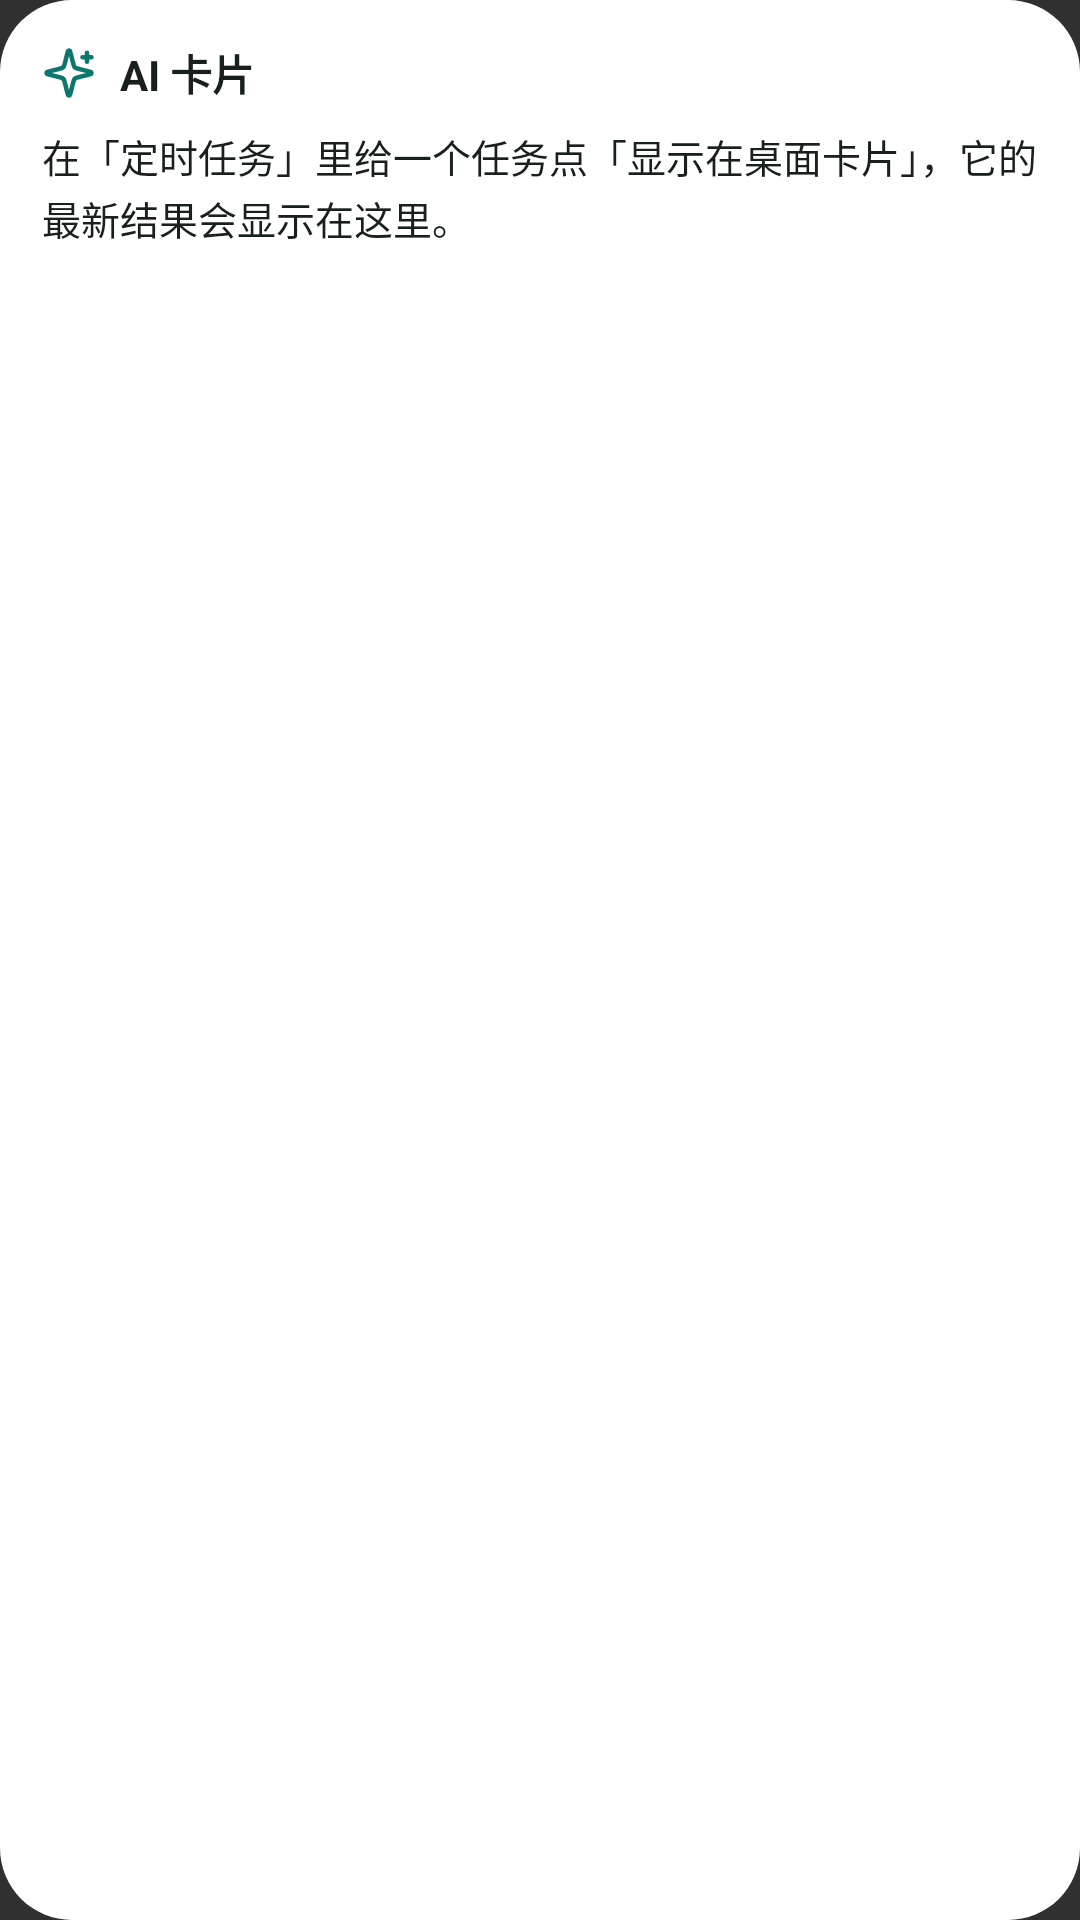

Named icons in this screenshot (1080 x 1920) and their centers, [x,y]:
widget sparkle: [69,73]
